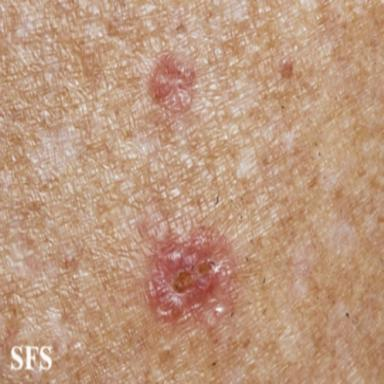Porokeratosis: (139, 219, 235, 327), (149, 54, 195, 112)
